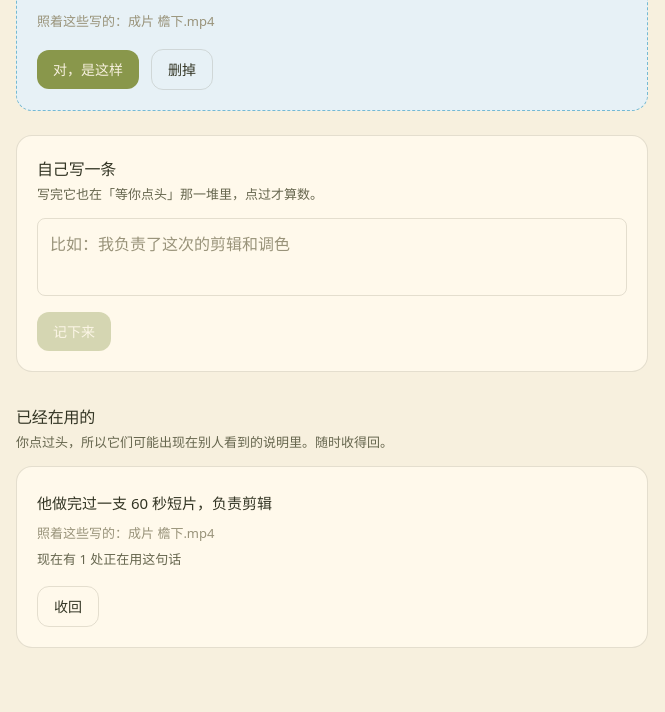
收回 › 收回之后界面立刻不再显示它在被使用
(page scrolled)
expect the text "现在有 1 处正在用这句话" is shown: met, box [37,550,181,568]
What coordinates should you click on to do the following:
click the button "收回"
I would click on:
 (68, 607)
Its box is [37,586,99,627].
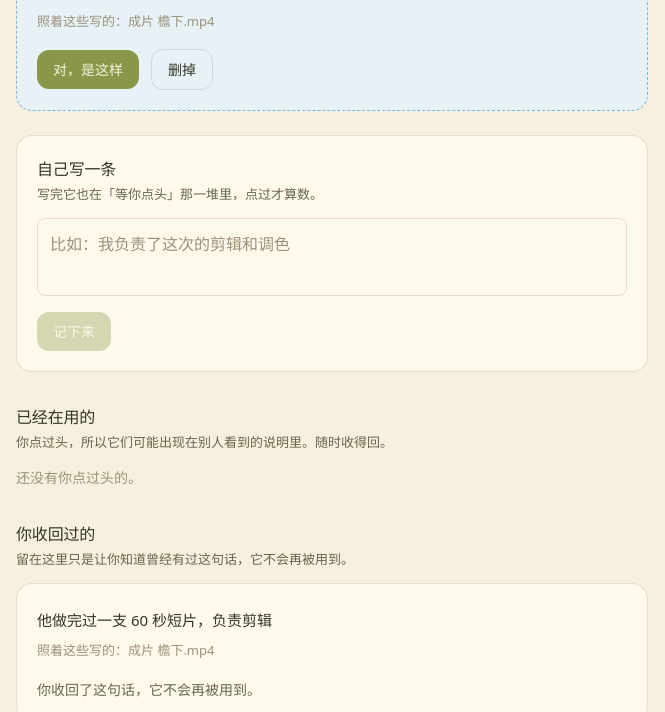
expect the text "你收回了这句话，它不会再被用到。" is shown: met, box [37,678,261,701]
expect the text "现在有 1 处正在用这句话" is gone: met
